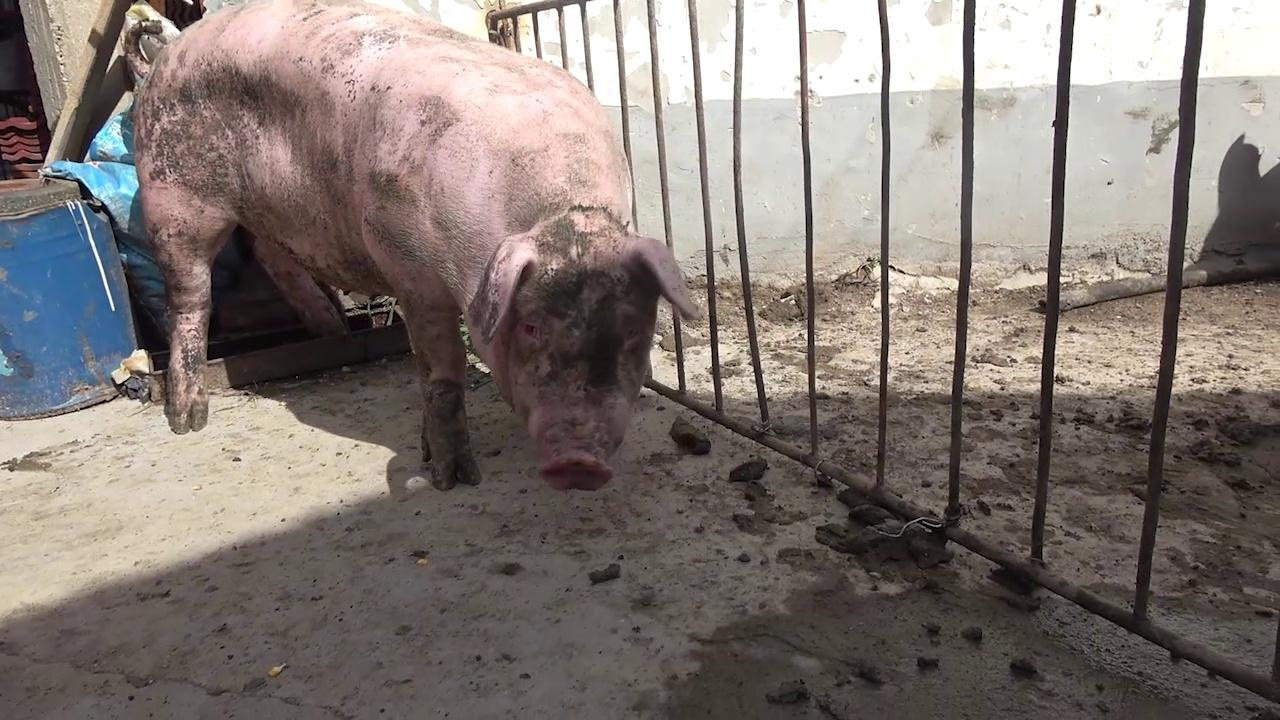Face: (460, 207, 706, 502)
